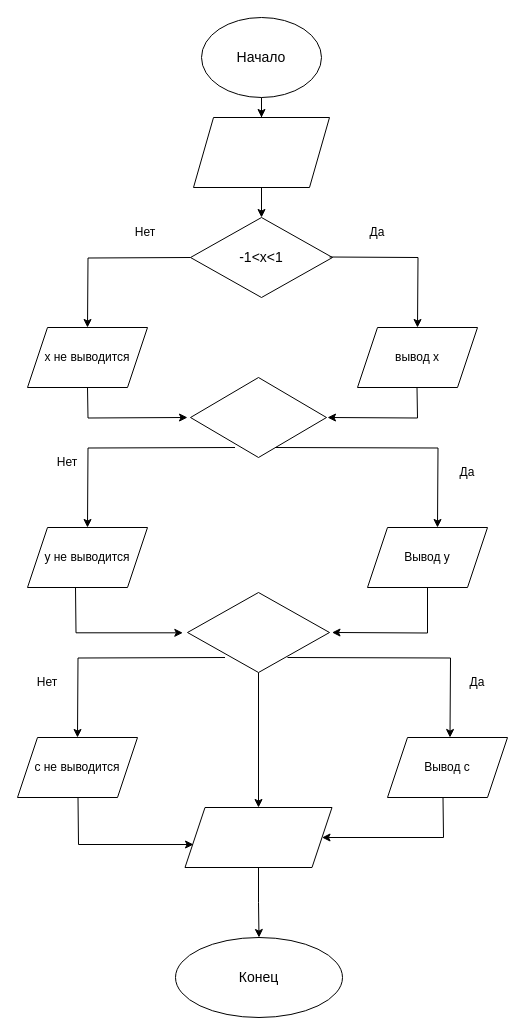
Image size: 525x1035. Some labels were removed from this diagram. Each missing label, with the centre of its shape:
-1<c<1: the point at 258,632
-1<y<1: the point at 258,417
x, y,c: the point at 261,152
Вывод: the point at 258,837
